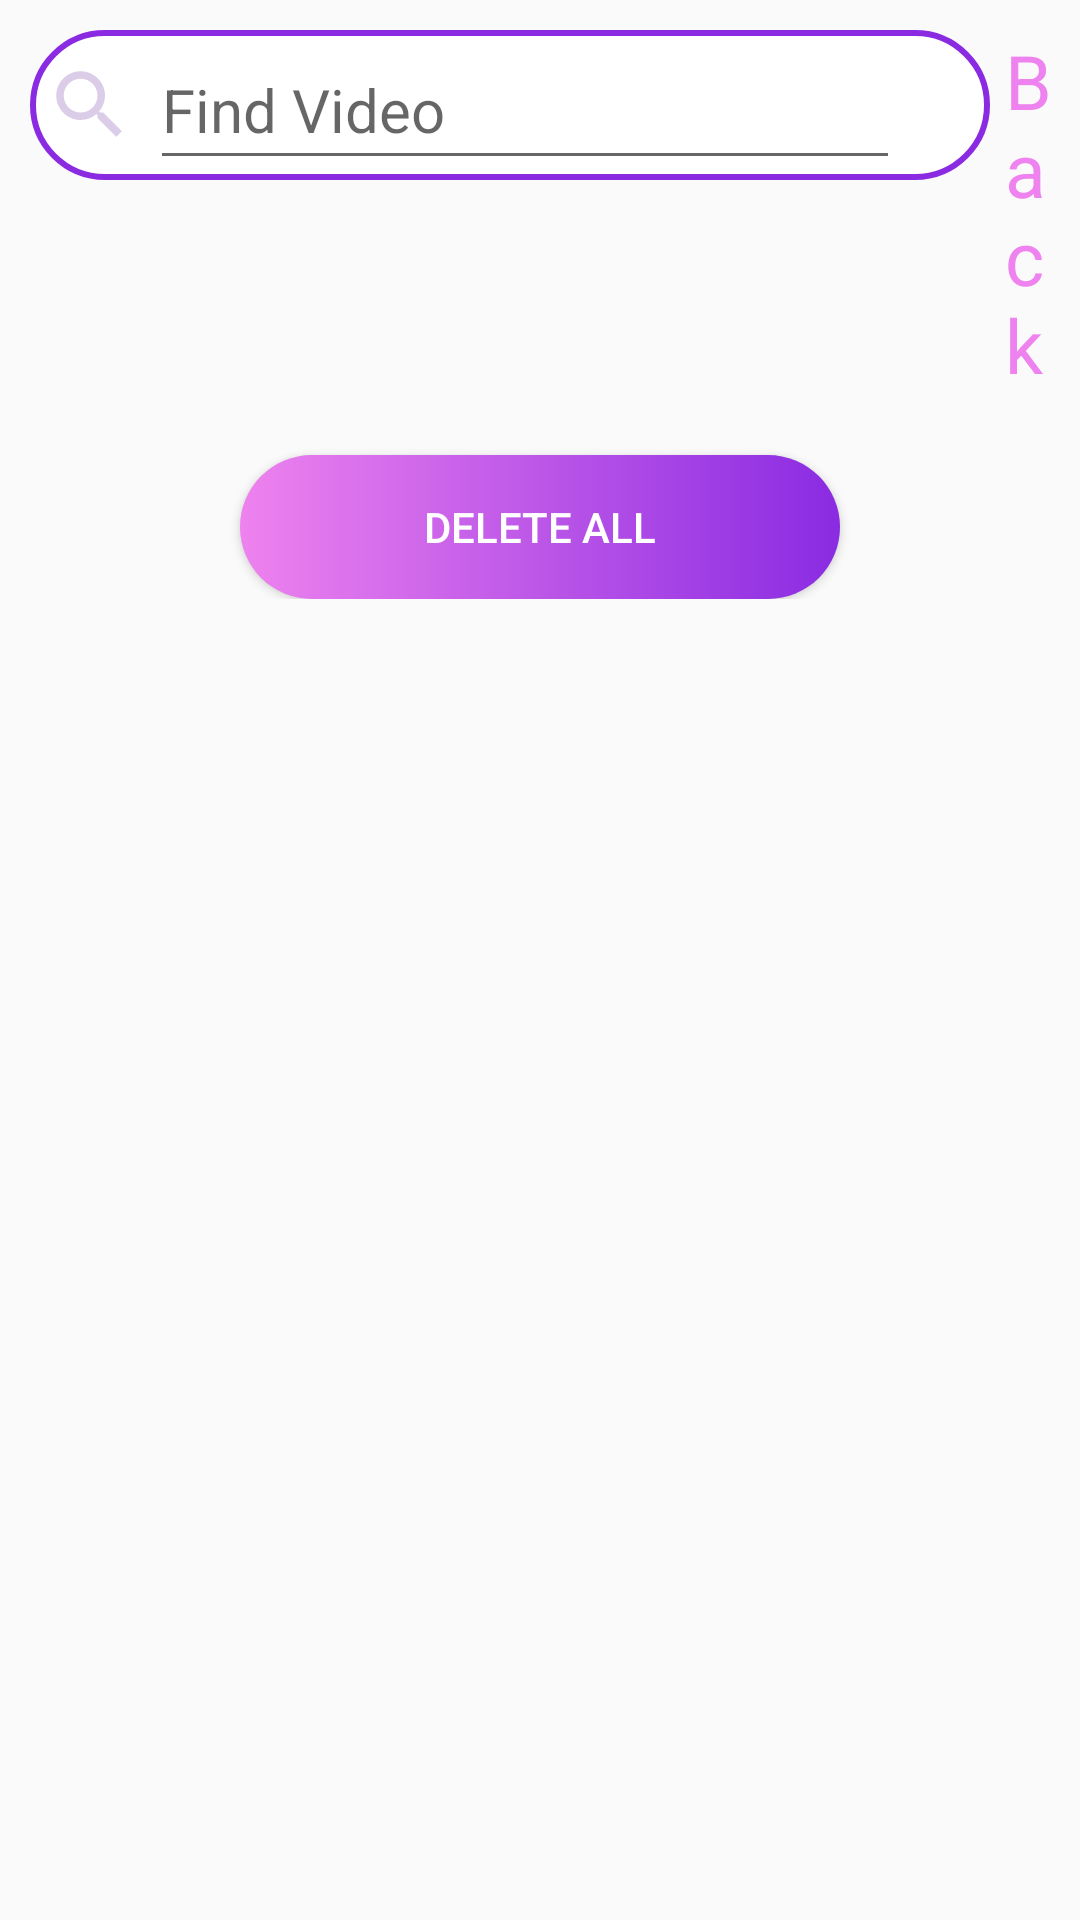

Point at icon controls on the screen. Image size 1080 × 1920, points as point (x, y).
search: point (89, 104)
